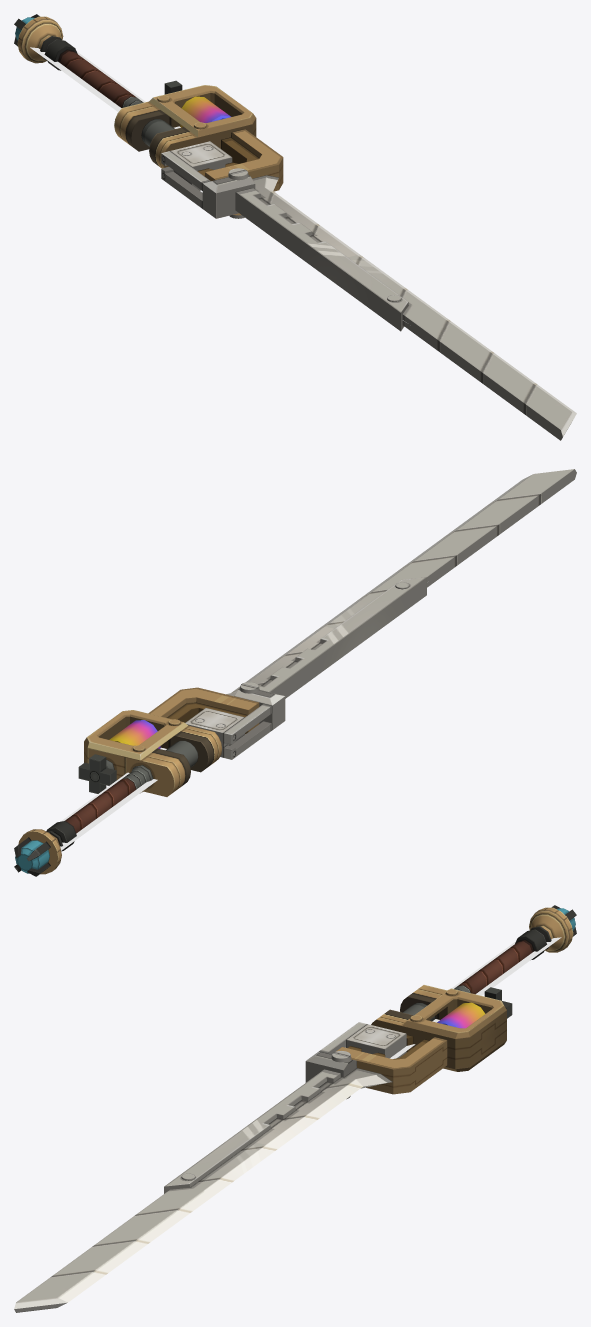
The model's file is Equip_Sword_Mechanic.fbx.
The picture shows the model from 3 angles, top to bottom: view 1: azimuth 30°, elevation 25°; view 2: azimuth 150°, elevation 25°; view 3: azimuth 330°, elevation 25°; orthographic projection. The views are drawn at different scales.
Parts seen in each view (by area): view 1: Equip_Sword_Mechanic_Model, Ousia, Equip_Sword_EffectMesh; view 2: Equip_Sword_Mechanic_Model, Equip_Sword_EffectMesh, Ousia; view 3: Equip_Sword_Mechanic_Model, Equip_Sword_EffectMesh, Ousia.
Part boxes in pixels (x1=…): Equip_Sword_Mechanic_Model: x1=14, y1=14, x2=576, y2=440; Ousia: x1=180, y1=96, x2=230, y2=127; Equip_Sword_EffectMesh: x1=30, y1=47, x2=406, y2=322; Equip_Sword_Mechanic_Model: x1=14, y1=469, x2=576, y2=876; Equip_Sword_EffectMesh: x1=60, y1=747, x2=166, y2=850; Ousia: x1=109, y1=720, x2=160, y2=748; Equip_Sword_Mechanic_Model: x1=14, y1=905, x2=576, y2=1312; Equip_Sword_EffectMesh: x1=390, y1=937, x2=561, y2=1058; Ousia: x1=437, y1=1002, x2=485, y2=1028.
Bounding box in the file's own units: 0.1179 × 0.047 × 1.08.
3 materials, 2 textured.
